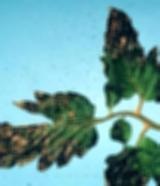Tomato Septoria leaf spot: (0, 78, 100, 181), (92, 7, 160, 110), (90, 131, 160, 186)
